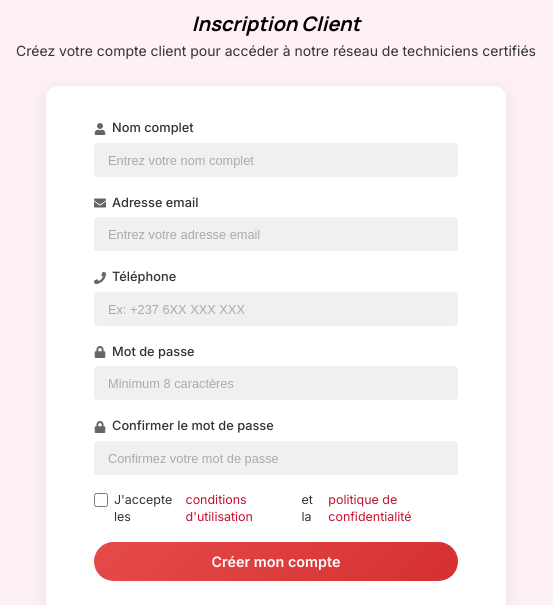
Test: Inscription Client › affiche la première erreur de champ renvoyée par l'API (e-mail déjà pris)
The image size is (553, 605).
Type "Alice" into the field with placeholder "Entrez votre nom complet" at (276, 160), box [94,143,458,177]
Type "nouveau@test.local" into the field with placeholder "Entrez votre adresse email" at (276, 234), box [94,217,458,251]
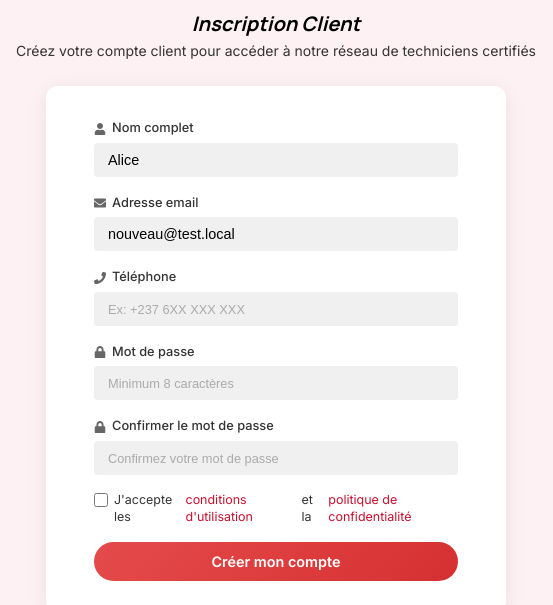
Type "+237600000000" into the field with placeholder "Ex: +237 6XX XXX XXX" at (276, 309), box [94,292,458,326]
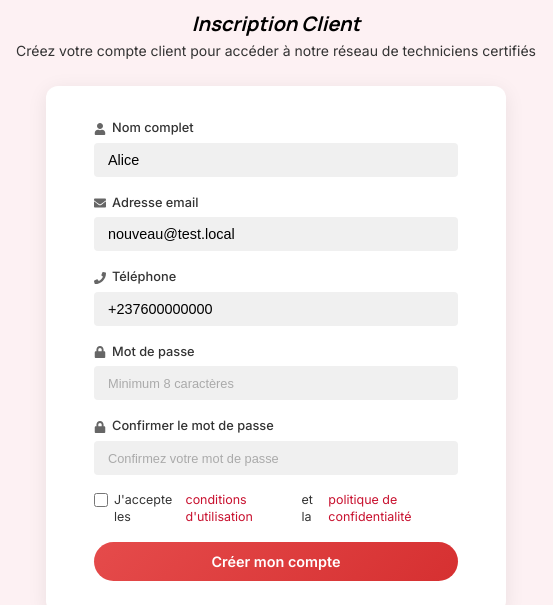
Type "Passw0rd!123" into the password field with placeholder "Minimum 8 caractères" at (276, 383), box [94,366,458,400]
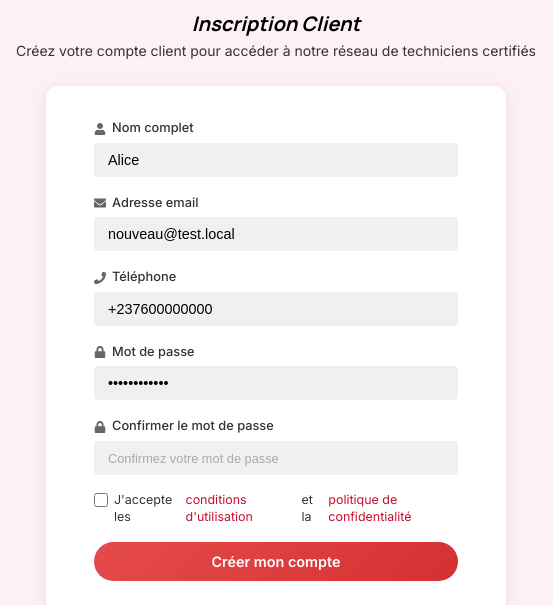
Type "Passw0rd!123" into the password field with placeholder "Confirmez votre mot de passe" at (276, 458), box [94,441,458,475]
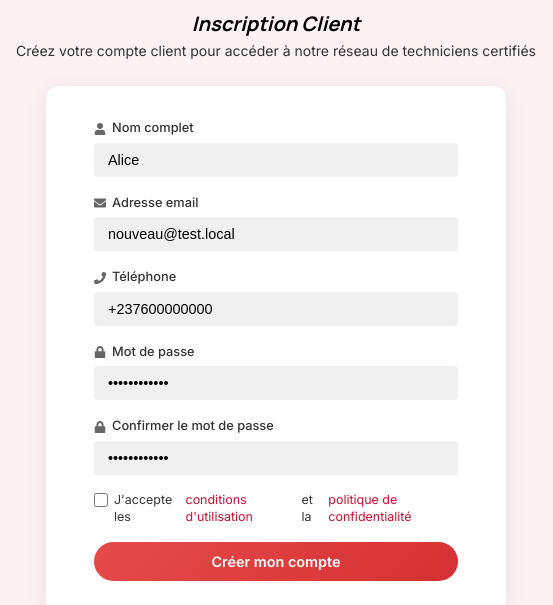
Click the checkbox at (101, 500), box [94,493,108,507]
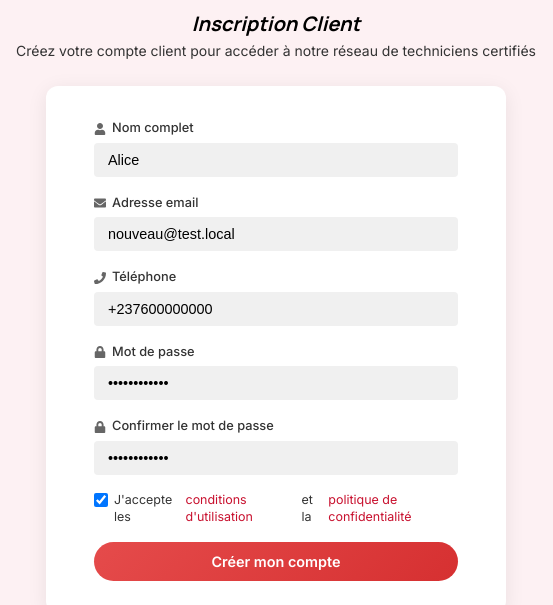
Submit the form, box [94,118,458,581]
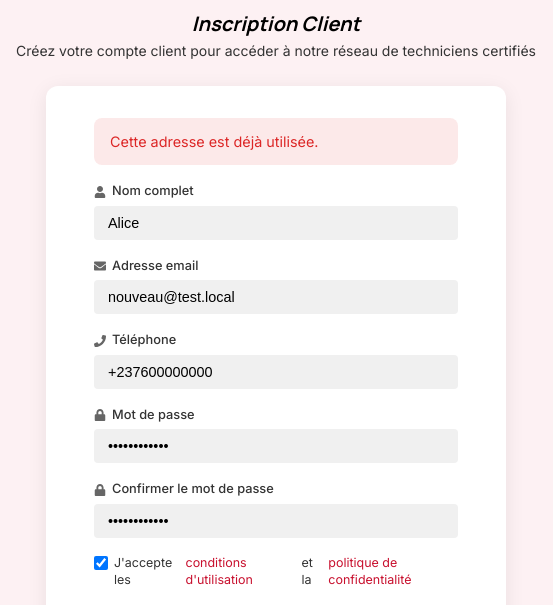
Result: the text "Cette adresse est déjà utilisée." is shown at [94,118,458,165]
